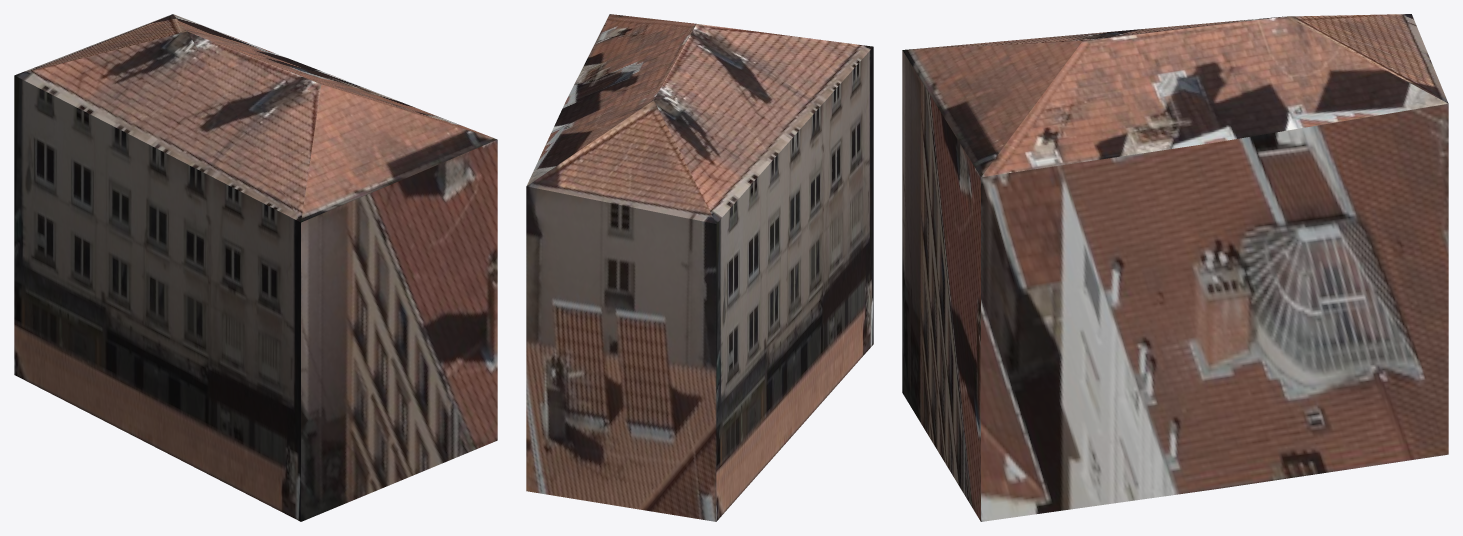
3 renders of one model, left to right at view 1: azimuth 30°, elevation 25°; view 2: azimuth 150°, elevation 25°; view 3: azimuth 270°, elevation 25°, orthographic. The views are drawn at different scales.
Visible parts, largest first — view 1: Z_UP; view 2: Z_UP; view 3: Z_UP.
Part boxes in pixels (left/top/right/bottom): Z_UP: left=14, top=14, right=497, bottom=521; Z_UP: left=526, top=14, right=873, bottom=521; Z_UP: left=902, top=14, right=1448, bottom=521.
Size of the model in its own units: 14.24 by 16.4 by 19.92.
Materials: 2 (1 with a texture image).
